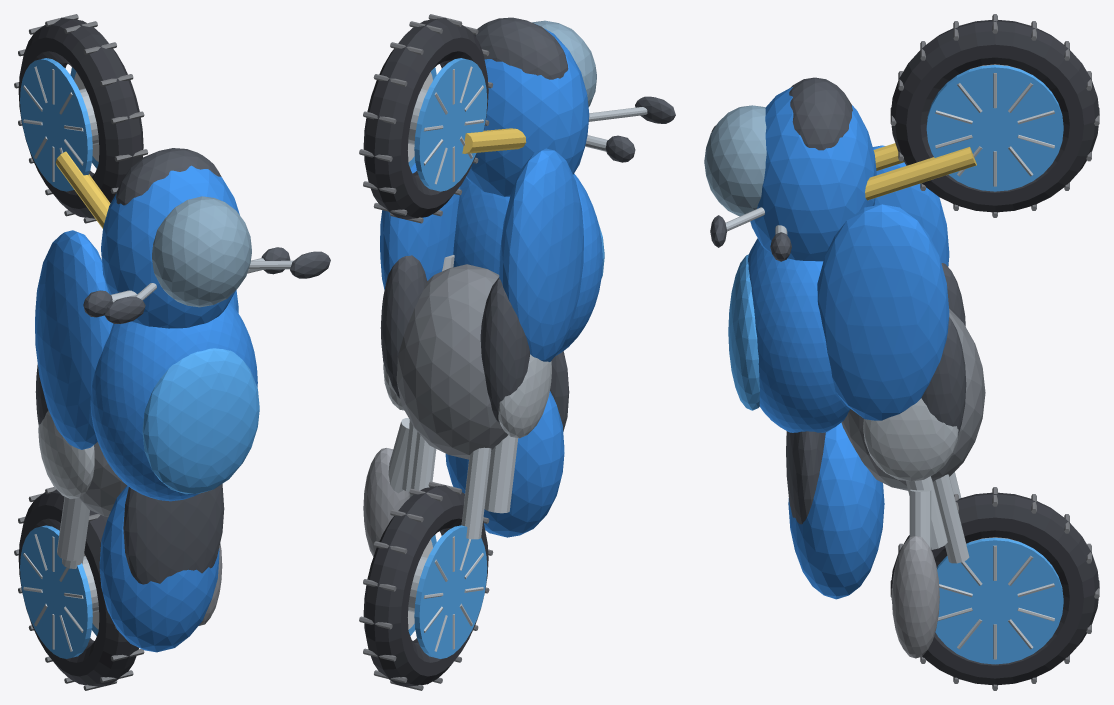
The model's file is Moto_Rush_X_Sport_Bike.glb.
The picture shows the model from 3 angles, left to right: view 1: azimuth 30°, elevation 25°; view 2: azimuth 150°, elevation 25°; view 3: azimuth 270°, elevation 25°; orthographic projection.
Visible parts, largest first — view 1: tank_top, fuel_tank, side_fairing_-1, front_nose, front_wheel_tire, rear_tail, windscreen, seat, rear_wheel_rim_-1, front_wheel_rim_-1, rear_wheel_tire, engine_cover_left (+7 smaller); view 2: engine, side_fairing_-1, front_wheel_tire, rear_wheel_tire, front_nose, rear_wheel_rim_-1, fuel_tank, front_wheel_rim_-1, rear_tail, lower_fairing_-1, side_fairing_1, front_cowl (+14 smaller); view 3: side_fairing_1, front_wheel_tire, fuel_tank, front_nose, rear_wheel_tire, front_wheel_rim_1, rear_wheel_rim_1, rear_tail, windscreen, engine_cover_right, exhaust_muffler, engine (+10 smaller).
Part boxes in pixels (<box>): tank_top: <box>142,348,259,494</box>; fuel_tank: <box>90,302,257,501</box>; side_fairing_-1: <box>35,230,113,449</box>; front_nose: <box>101,165,239,328</box>; front_wheel_tire: <box>18,17,143,218</box>; rear_tail: <box>99,485,219,652</box>; windscreen: <box>152,196,251,307</box>; seat: <box>123,484,224,584</box>; rear_wheel_rim_-1: <box>20,525,92,658</box>; front_wheel_rim_-1: <box>20,58,92,191</box>; rear_wheel_tire: <box>18,489,138,686</box>; engine_cover_left: <box>38,410,94,498</box>; engine: <box>396,264,507,459</box>; side_fairing_-1: <box>499,148,583,361</box>; front_wheel_tire: <box>363,17,488,219</box>; rear_wheel_tire: <box>363,485,488,686</box>; front_nose: <box>466,24,589,196</box>; rear_wheel_rim_-1: <box>414,525,487,658</box>; fuel_tank: <box>453,173,602,355</box>; front_wheel_rim_-1: <box>414,58,487,191</box>; rear_tail: <box>445,391,564,537</box>; lower_fairing_-1: <box>480,277,529,423</box>; side_fairing_1: <box>380,163,460,289</box>; front_cowl: <box>474,17,568,79</box>; side_fairing_1: <box>817,204,949,420</box>; front_wheel_tire: <box>890,20,1099,212</box>; fuel_tank: <box>748,238,850,432</box>; front_nose: <box>750,87,876,261</box>; rear_wheel_tire: <box>890,492,1099,685</box>; front_wheel_rim_1: <box>926,65,1063,191</box>; rear_wheel_rim_1: <box>935,537,1063,664</box>; rear_tail: <box>788,422,884,599</box>; windscreen: <box>704,105,766,216</box>; engine_cover_right: <box>863,398,958,481</box>; exhaust_muffler: <box>891,535,939,658</box>; engine: <box>841,308,985,490</box>.
Bounding box in the file's own units: 1.1 × 3.04 × 1.64.
